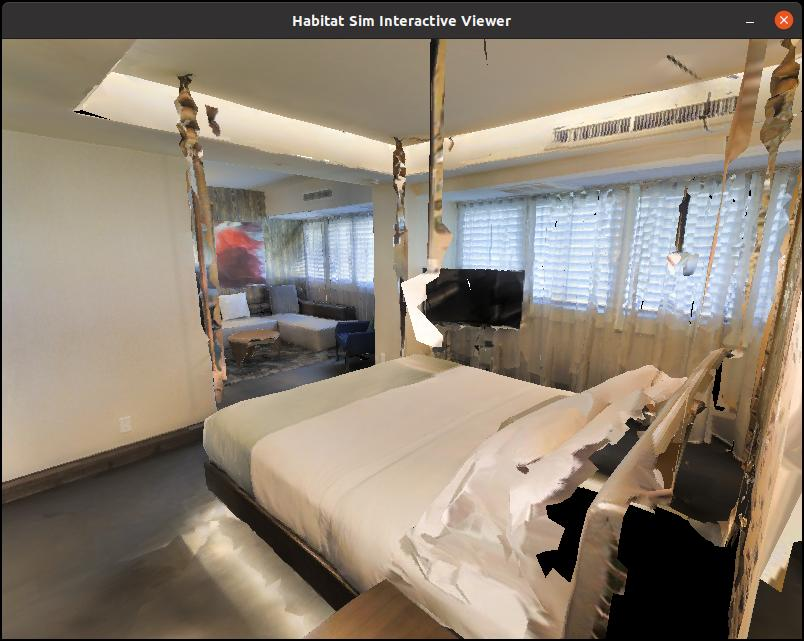bed: (155, 318, 790, 641)
